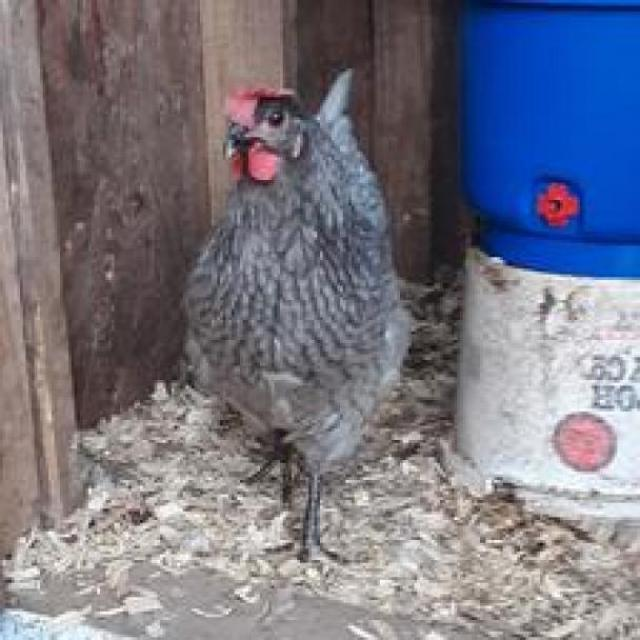Chicken: (169, 33, 427, 581)
